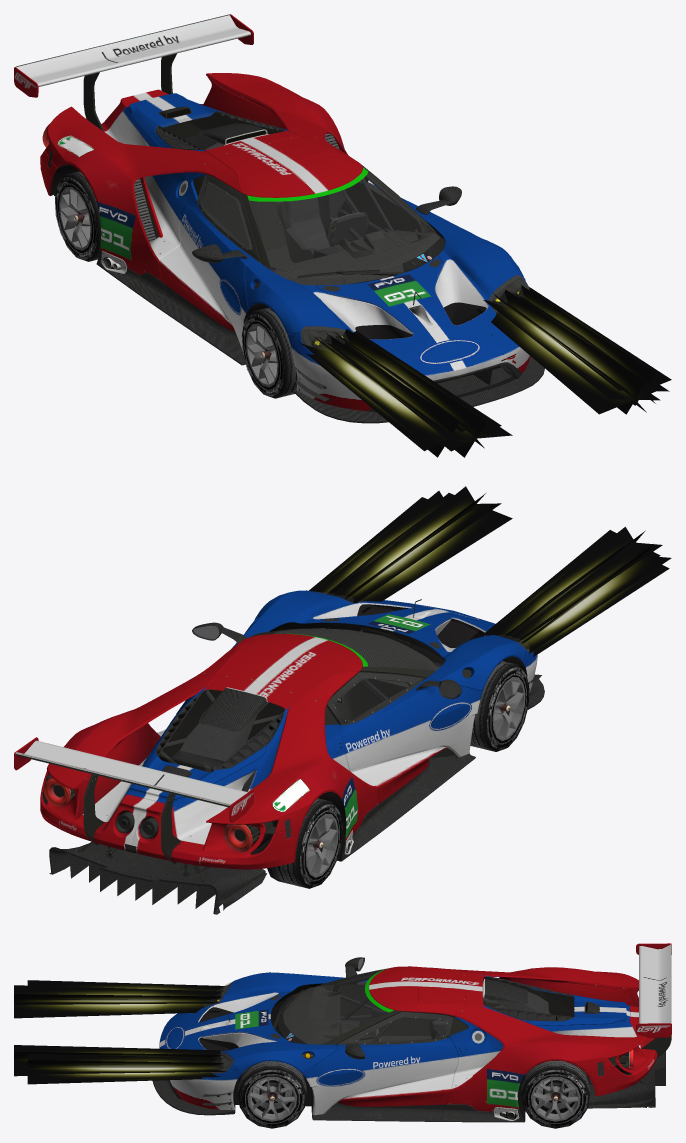
File: racing_car_04.fbx
The picture shows the model from 3 angles, top to bottom: view 1: azimuth 30°, elevation 25°; view 2: azimuth 150°, elevation 25°; view 3: azimuth 270°, elevation 25°; orthographic projection. The views are drawn at different scales.
Parts seen in each view (by area): view 1: carBody_ext, front_glows, glassFront_windows, interior_cab, frontBumper_ext, door_Right_cab, rear_Bumper_ext, hood_ext, wheel_FR, chassis_ext, wheel_RR, door_Left_cab (+5 smaller); view 2: carBody_ext, front_glows, chassis_ext, door_Right_cab, rear_Bumper_ext, interior_cab, wheel_FR, glass_Rear_windows, wheel_RR, carBoot_ext, glassFront_windows, hood_ext (+3 smaller); view 3: carBody_ext, front_glows, door_Left_cab, chassis_ext, rear_Bumper_ext, glassFront_windows, interior_cab, frontBumper_ext, wheel_RL, wheel_FL, carBoot_ext, door_Right_cab (+4 smaller).
Boxes of the visible parts, left/top/right/bottom form: carBody_ext: left=45, top=73, right=529, bottom=348; front_glows: left=299, top=285, right=671, bottom=457; glassFront_windows: left=250, top=172, right=444, bottom=284; interior_cab: left=198, top=174, right=439, bottom=285; frontBumper_ext: left=287, top=278, right=544, bottom=423; door_Right_cab: left=153, top=175, right=261, bottom=365; rear_Bumper_ext: left=14, top=14, right=253, bottom=195; hood_ext: left=315, top=255, right=450, bottom=332; wheel_FR: left=241, top=307, right=297, bottom=398; chassis_ext: left=48, top=112, right=486, bottom=339; wheel_RR: left=55, top=171, right=100, bottom=261; door_Left_cab: left=343, top=174, right=461, bottom=258; carBody_ext: left=45, top=590, right=531, bottom=861; front_glows: left=309, top=486, right=671, bottom=657; chassis_ext: left=46, top=604, right=527, bottom=914; door_Right_cab: left=326, top=671, right=482, bottom=820; rear_Bumper_ext: left=14, top=737, right=302, bottom=869; interior_cab: left=256, top=628, right=437, bottom=721; wheel_FR: left=470, top=661, right=529, bottom=751; glass_Rear_windows: left=160, top=689, right=283, bottom=768; wheel_RR: left=267, top=798, right=342, bottom=888; carBoot_ext: left=129, top=691, right=284, bottom=799; glassFront_windows: left=255, top=628, right=440, bottom=670; hood_ext: left=315, top=599, right=450, bottom=652; carBody_ext: left=202, top=966, right=646, bottom=1122; front_glows: left=14, top=980, right=226, bottom=1084; door_Left_cab: left=302, top=1011, right=458, bottom=1121; chassis_ext: left=199, top=976, right=665, bottom=1120; rear_Bumper_ext: left=584, top=943, right=671, bottom=1096; glassFront_windows: left=278, top=970, right=387, bottom=1043; interior_cab: left=283, top=969, right=446, bottom=1044; frontBumper_ext: left=152, top=1004, right=243, bottom=1115; wheel_RL: left=521, top=1060, right=589, bottom=1128; wheel_FL: left=238, top=1061, right=306, bottom=1128; carBoot_ext: left=487, top=976, right=626, bottom=1025; door_Right_cab: left=305, top=957, right=430, bottom=1035.
Size of what is drawn, in the model's own units: 129 by 61.63 by 362.
